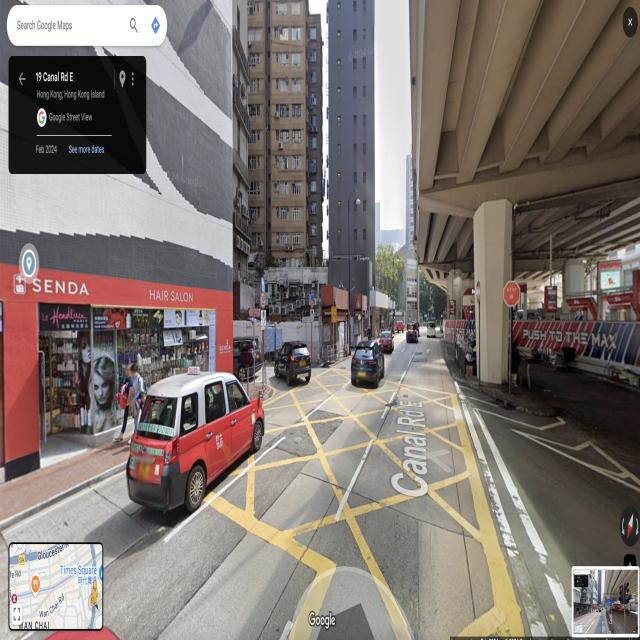Direction-Sign: (261, 278, 264, 291), (311, 292, 313, 300)
Order-Sign: (504, 279, 520, 308), (476, 281, 481, 302), (261, 310, 266, 330), (260, 293, 266, 307), (310, 309, 314, 323), (310, 301, 314, 307), (365, 310, 368, 318)
Street-Direction-Sign: (248, 308, 260, 316), (302, 316, 310, 322)
